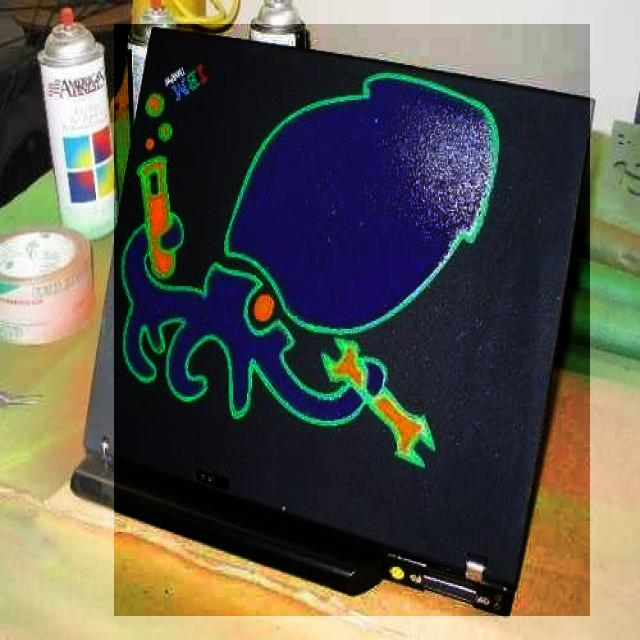-keyboard-: (114, 24, 590, 616)
